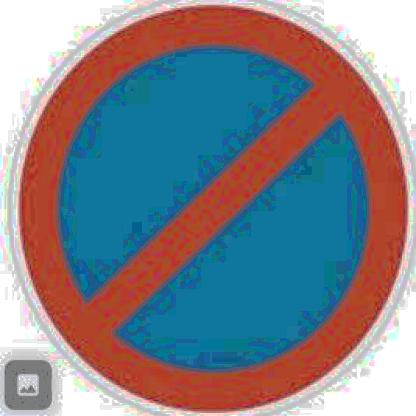No parking: (17, 8, 416, 408)
